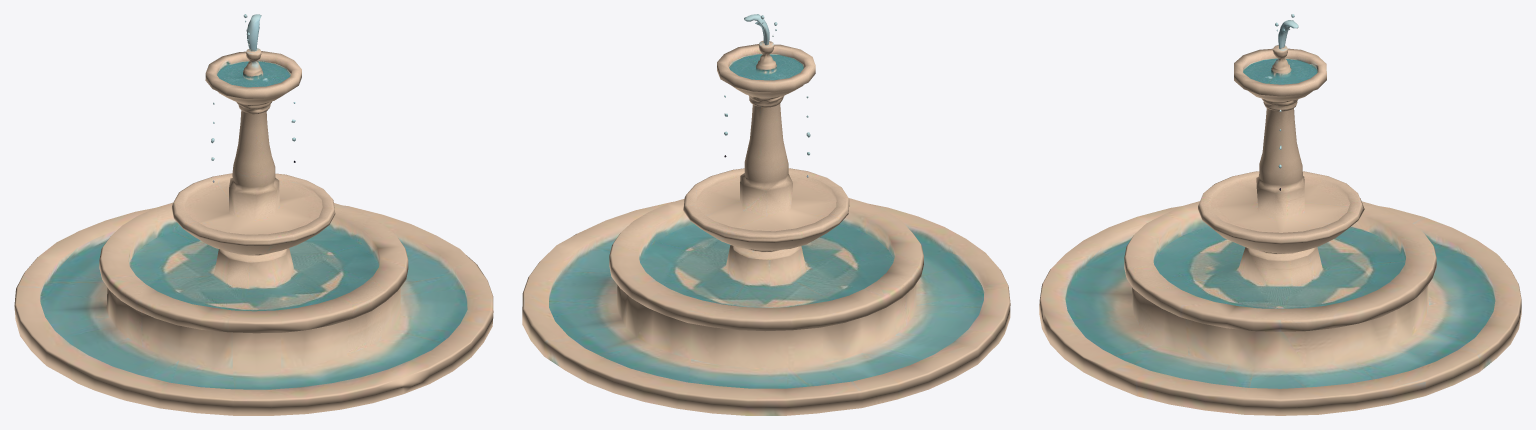
Rendered from fountain.glb.
The picture shows the model from 3 angles, left to right: view 1: azimuth 30°, elevation 25°; view 2: azimuth 150°, elevation 25°; view 3: azimuth 270°, elevation 25°; orthographic projection.
Size of the model in its own units: 0.9575 by 0.6553 by 0.9575.
Materials: 1 (1 with a texture image).
